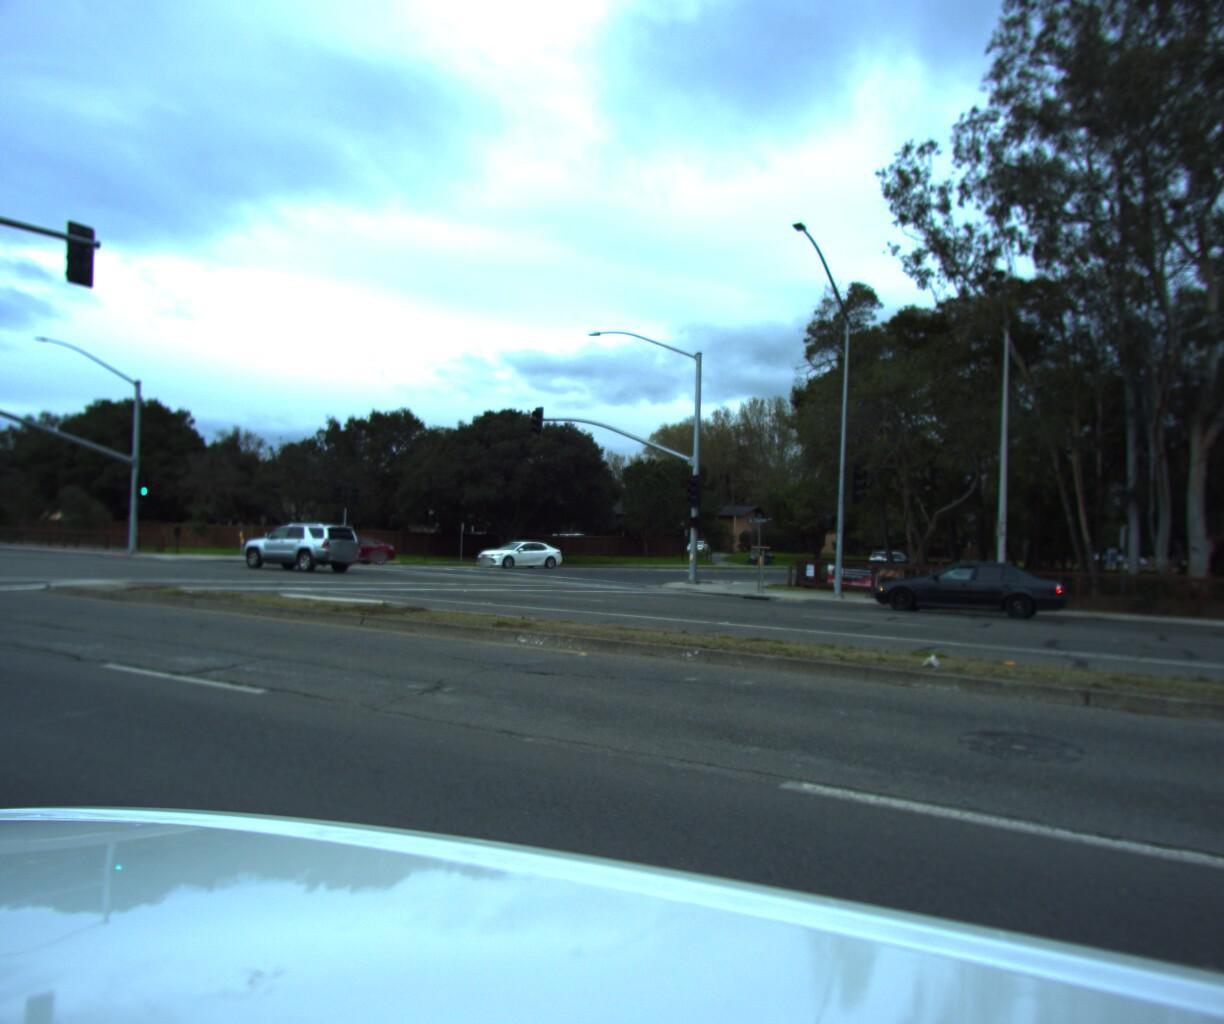car: (875, 549, 1087, 619), (230, 514, 365, 571), (288, 526, 395, 559), (467, 533, 565, 564), (854, 543, 913, 570)
